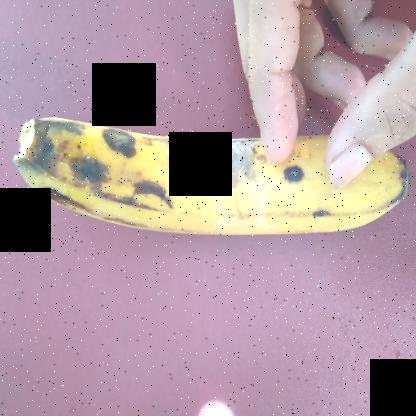ripe: (7, 88, 415, 260)
rotten: (163, 109, 284, 208)
